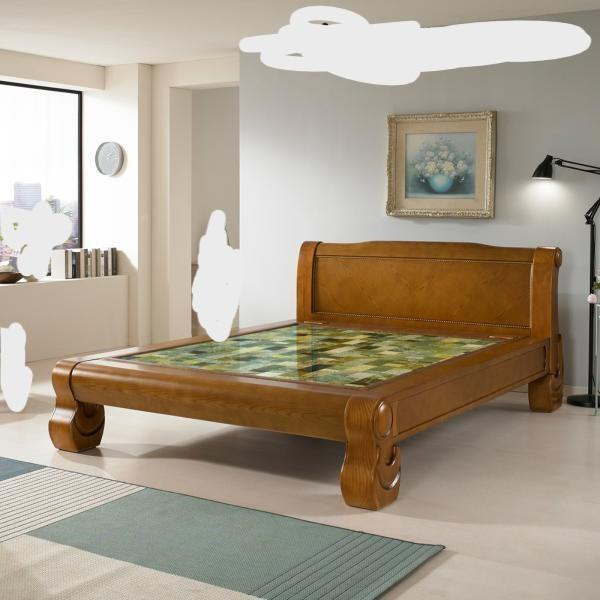Bed-Mattress: (51, 236, 577, 502)
